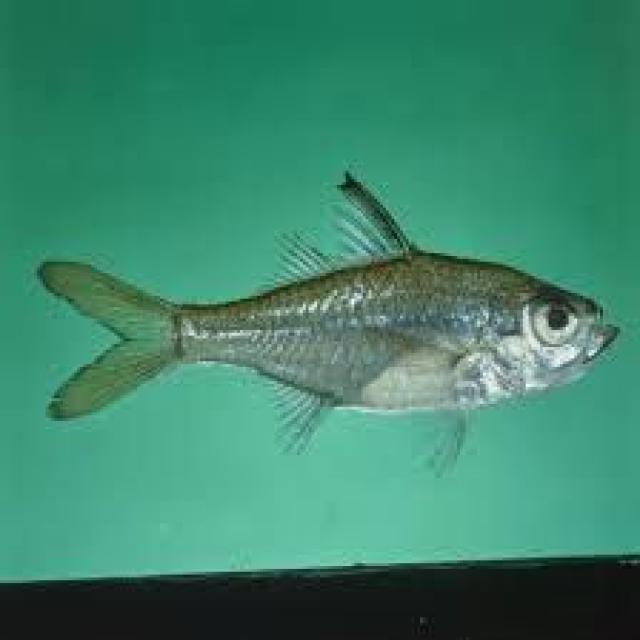Glass-Perchlet: (17, 136, 625, 517)
